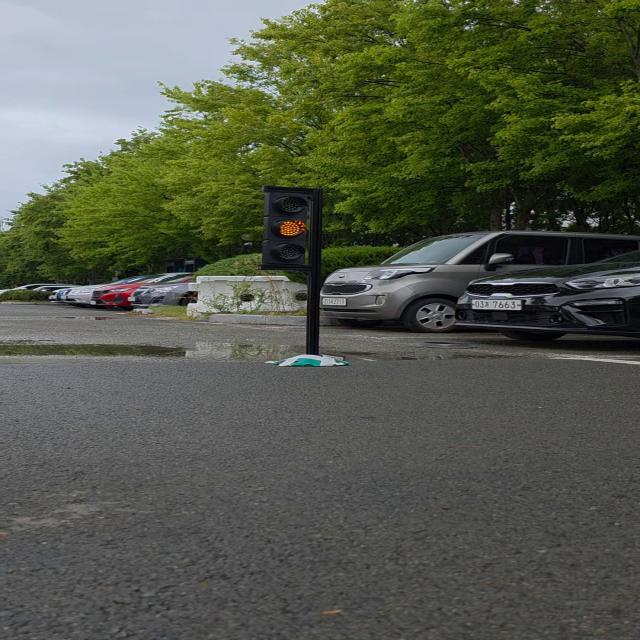yellow: (255, 182, 326, 274)
